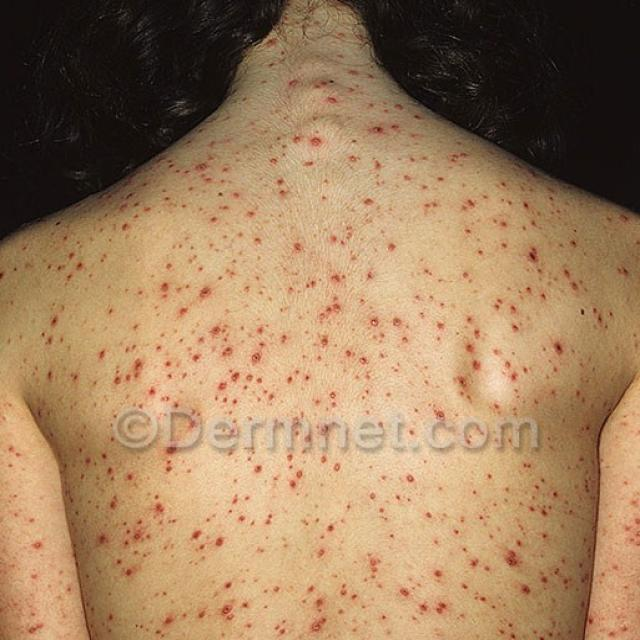Viral Infections: (49, 276, 601, 640), (280, 18, 379, 227), (47, 188, 256, 270), (0, 422, 50, 635), (409, 188, 566, 253), (607, 355, 640, 637)
